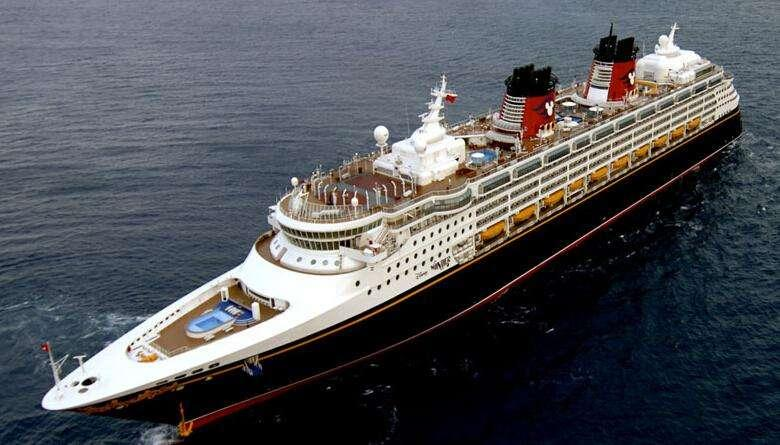youlun: (45, 23, 749, 430)
